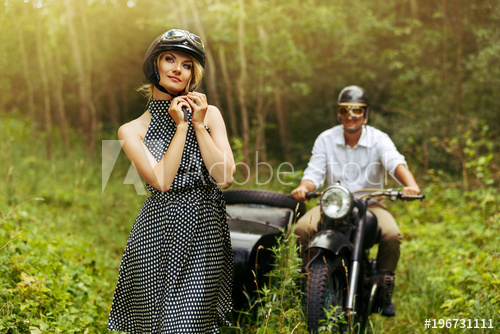with_helmet: (142, 26, 208, 77), (337, 86, 369, 125)
